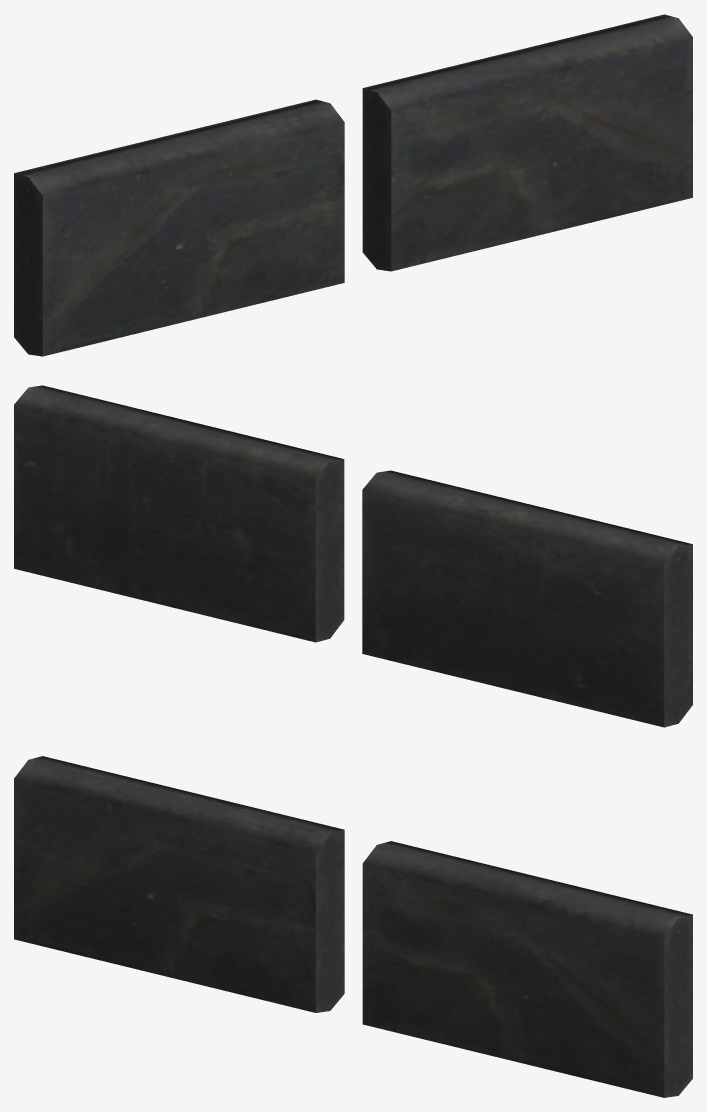
3 views of the same model, one above another, from view 1: azimuth 30°, elevation 25°; view 2: azimuth 150°, elevation 25°; view 3: azimuth 330°, elevation 25° (orthographic).
Parts seen in each view (by area): view 1: set_0_group_0; view 2: set_0_group_0; view 3: set_0_group_0.
Boxes of the visible parts, x1,y1,x2,y2 form: set_0_group_0: [14, 14, 692, 356]; set_0_group_0: [14, 385, 692, 727]; set_0_group_0: [14, 756, 692, 1097].
Size of the model in its own units: 0.4896 by 0.1277 by 0.0374.
1 material, 1 textured.
